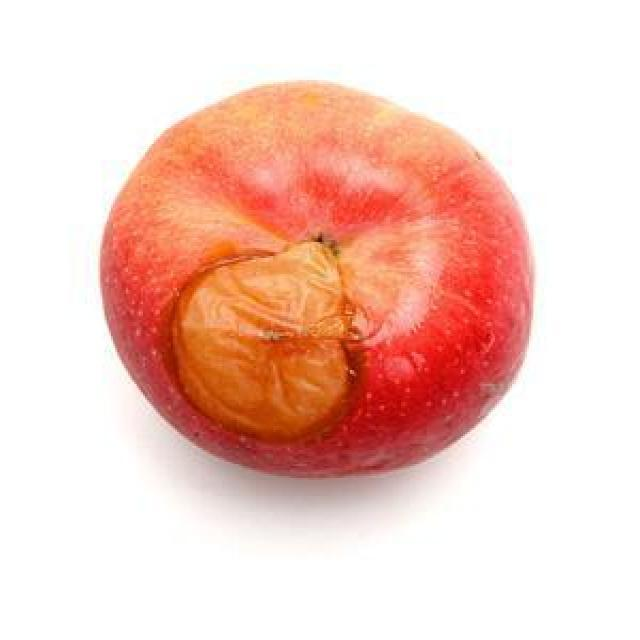Apple: (115, 85, 528, 493)
